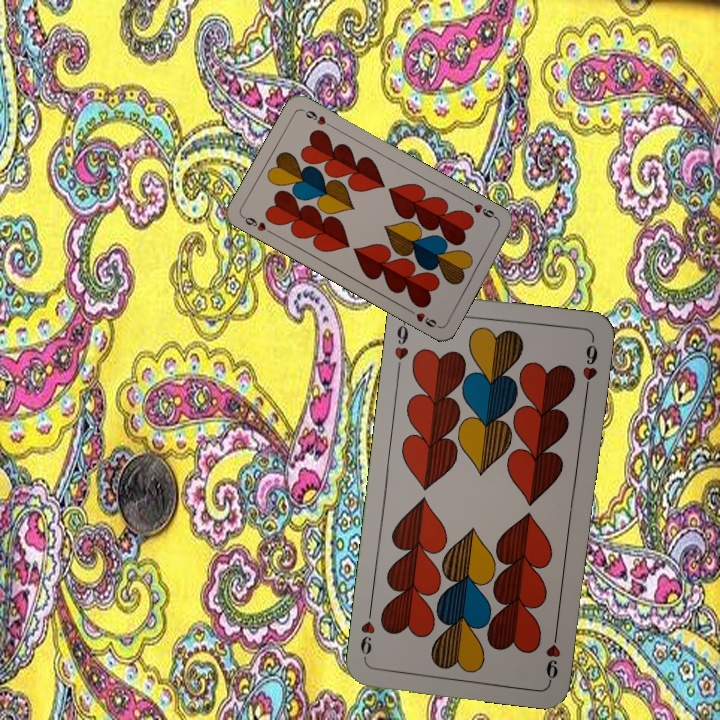H9: (390, 314, 411, 373), (542, 624, 563, 683), (464, 197, 501, 223), (239, 212, 276, 237)
